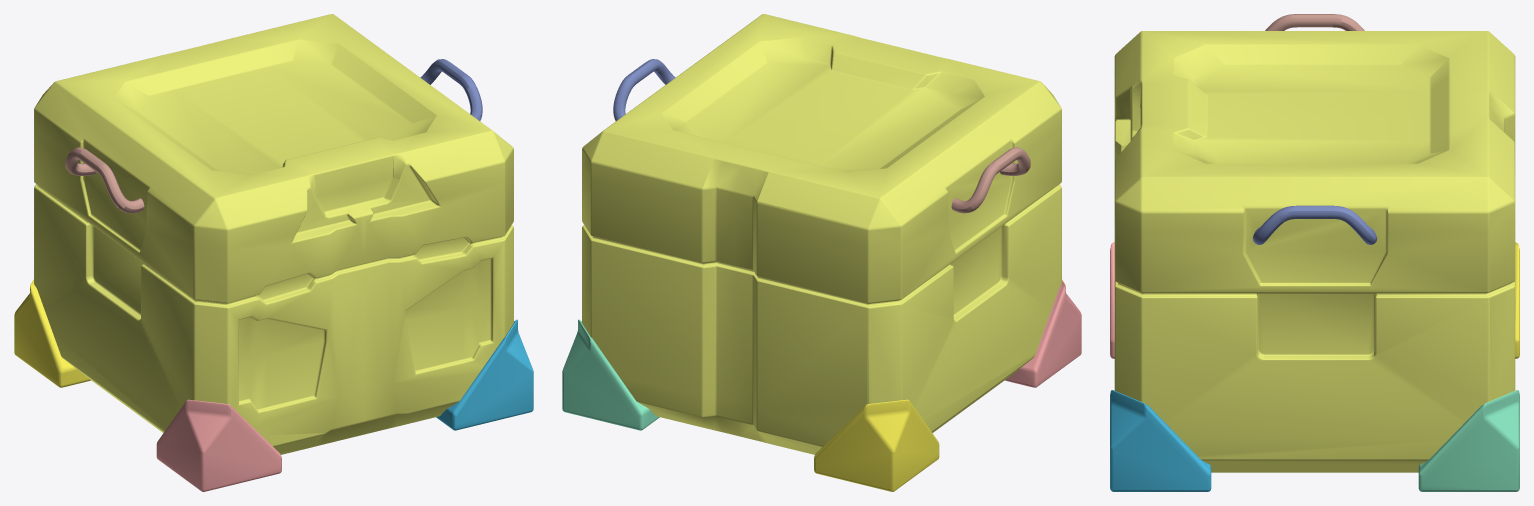
3 views of the same model, side by side, from view 1: azimuth 30°, elevation 25°; view 2: azimuth 150°, elevation 25°; view 3: azimuth 270°, elevation 25° (orthographic). The views are drawn at different scales.
Parts seen in each view (by area): view 1: split_parent_0, split_parent_3, split_parent_1, split_parent_5, split_parent_6, split_parent_2; view 2: split_parent_0, split_parent_5, split_parent_4, split_parent_3, split_parent_6, split_parent_2; view 3: split_parent_0, split_parent_1, split_parent_4, split_parent_2, split_parent_6, split_parent_3, split_parent_5.
Boxes of the visible parts, bbox=[...] form: split_parent_0: bbox=[34, 14, 513, 454]; split_parent_3: bbox=[156, 399, 281, 491]; split_parent_1: bbox=[436, 319, 533, 430]; split_parent_5: bbox=[14, 279, 90, 387]; split_parent_6: bbox=[65, 147, 144, 213]; split_parent_2: bbox=[420, 59, 482, 120]; split_parent_0: bbox=[582, 14, 1061, 454]; split_parent_5: bbox=[814, 399, 939, 491]; split_parent_4: bbox=[562, 319, 659, 430]; split_parent_3: bbox=[1005, 279, 1081, 387]; split_parent_6: bbox=[951, 147, 1030, 213]; split_parent_2: bbox=[613, 59, 675, 120]; split_parent_0: bbox=[1114, 31, 1515, 472]; split_parent_1: bbox=[1110, 390, 1211, 491]; split_parent_4: bbox=[1418, 390, 1519, 491]; split_parent_2: bbox=[1252, 205, 1377, 244]; split_parent_6: bbox=[1265, 14, 1364, 30]; split_parent_3: bbox=[1110, 242, 1114, 358]; split_parent_5: bbox=[1515, 242, 1519, 358].
Bounding box in the file's own units: 1 × 0.7121 × 0.8778.
